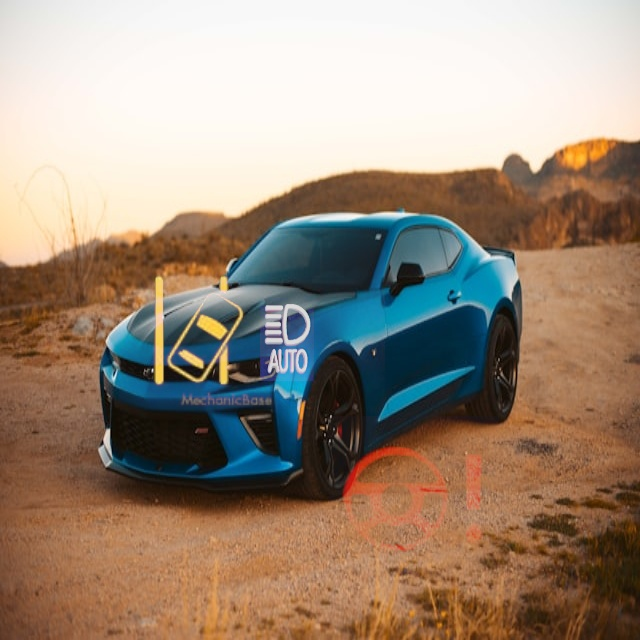symbol: (189, 247, 385, 443), (329, 416, 499, 586), (119, 254, 278, 413)
